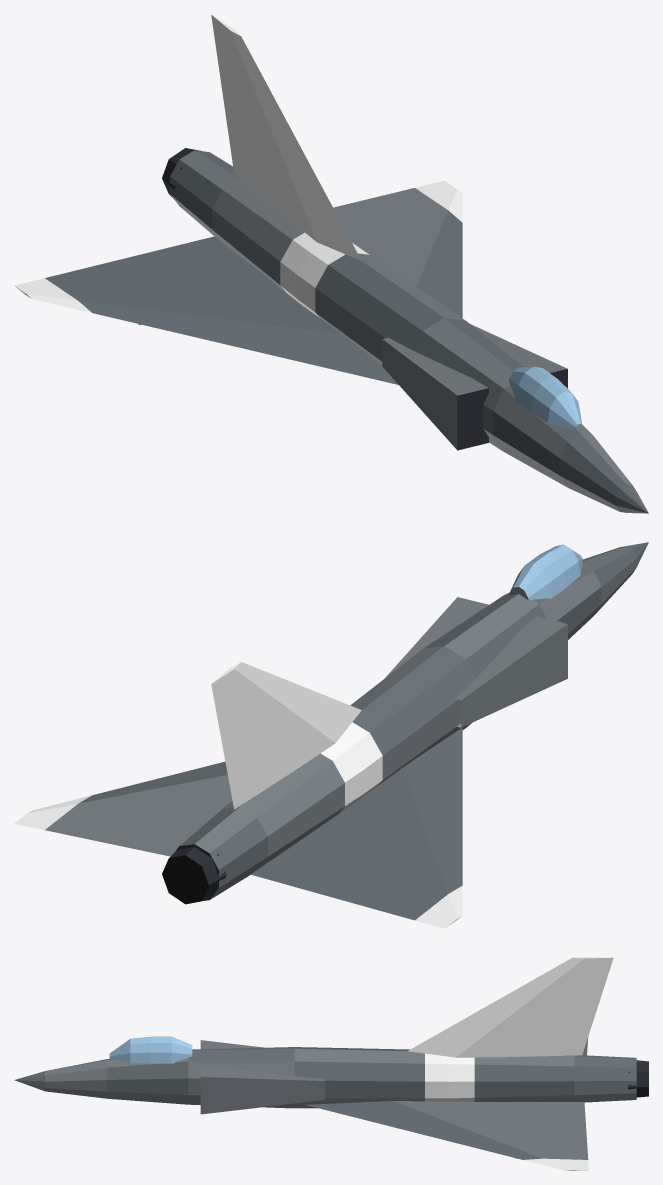
The model's file is mirage3e.glb.
3 renders of one model, top to bottom at view 1: azimuth 30°, elevation 25°; view 2: azimuth 150°, elevation 25°; view 3: azimuth 270°, elevation 25°, orthographic. The views are drawn at different scales.
Visible parts, largest first — view 1: body; view 2: body; view 3: body.
Part boxes in pixels (<box>): body: <box>14,15,648,513</box>; body: <box>14,542,648,928</box>; body: <box>14,957,648,1170</box>.
Size of the model in its own units: 8.22 by 4.07 by 15.33.
